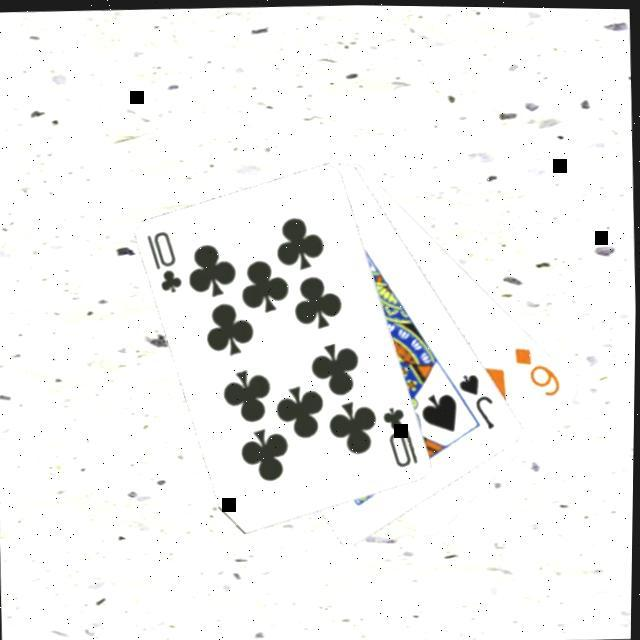10C: (379, 401, 423, 471), (142, 227, 186, 297)
6D: (510, 342, 565, 401)
JS: (454, 368, 499, 432)
